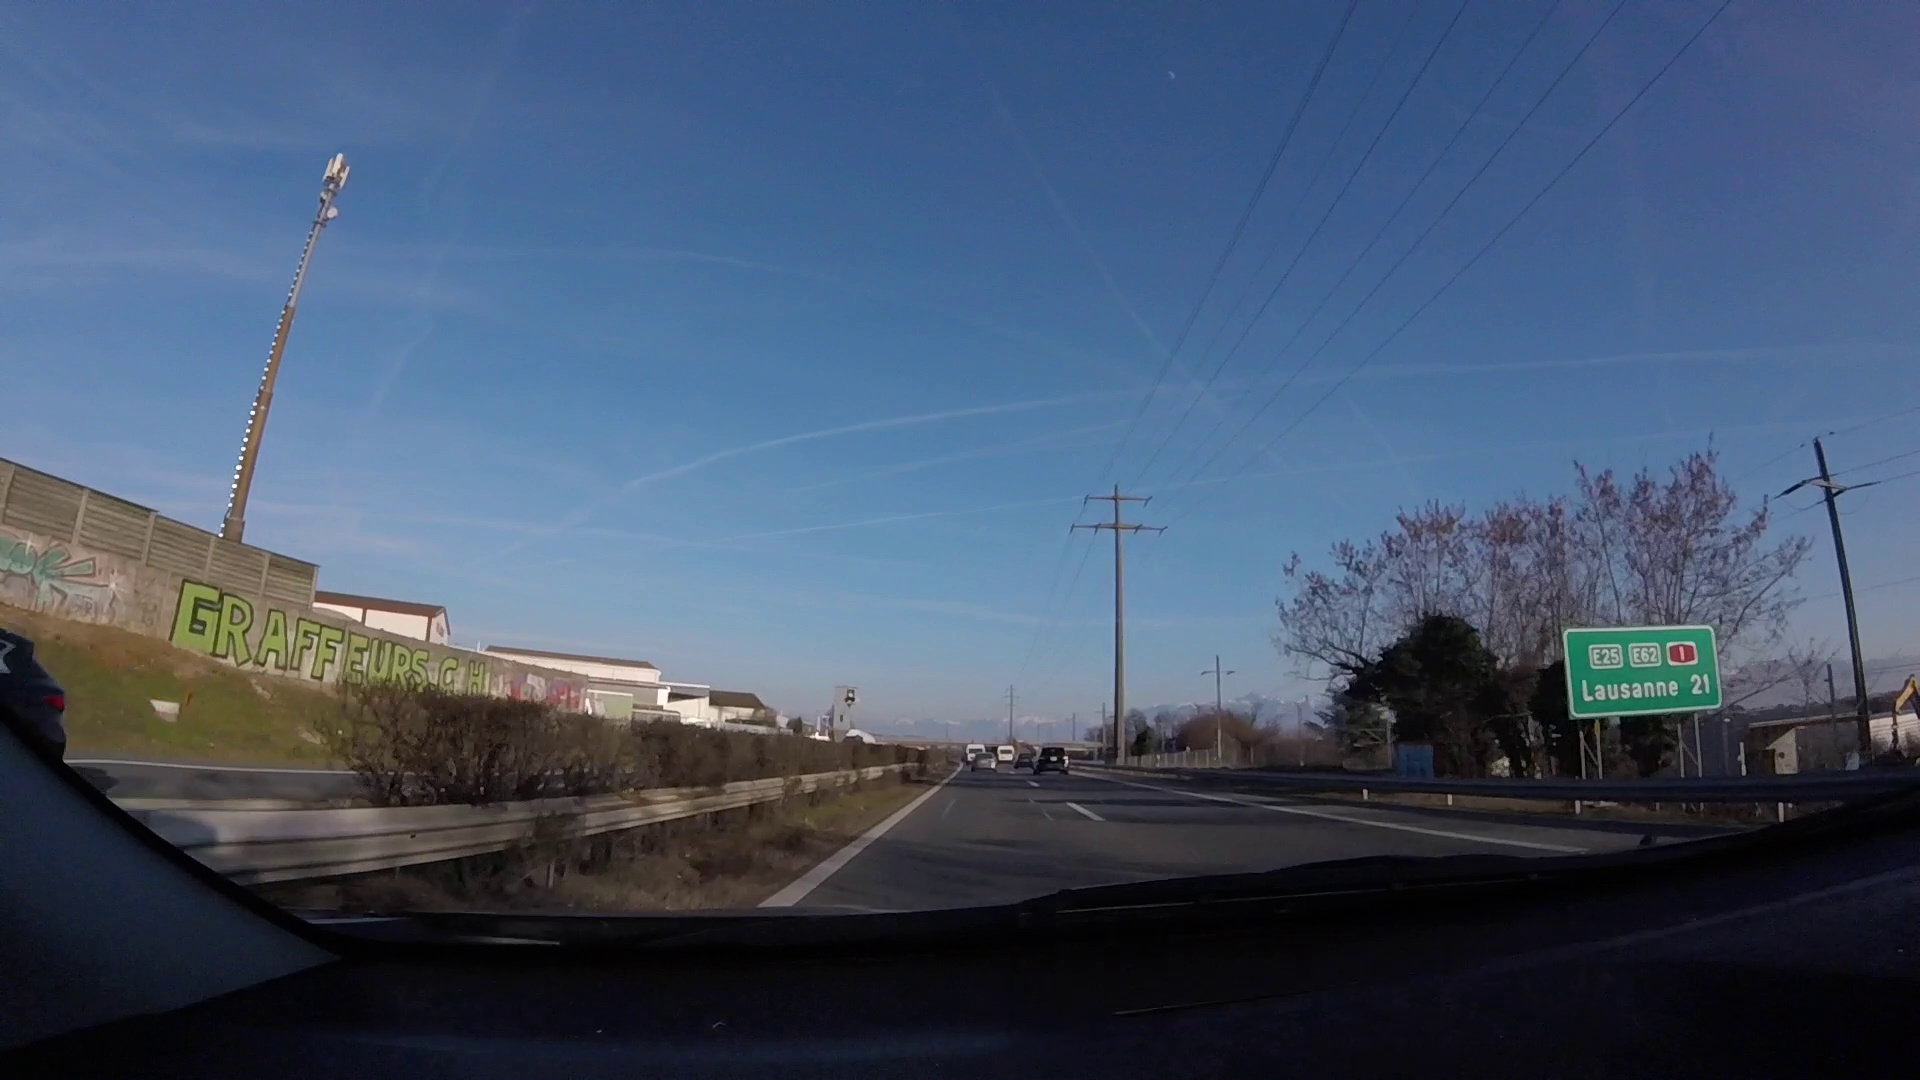radar: (832, 684, 861, 746)
